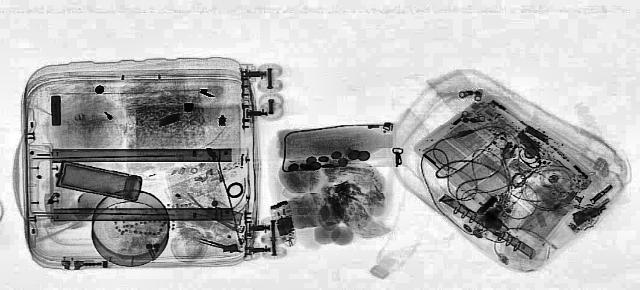Knife: (189, 236, 249, 256)
